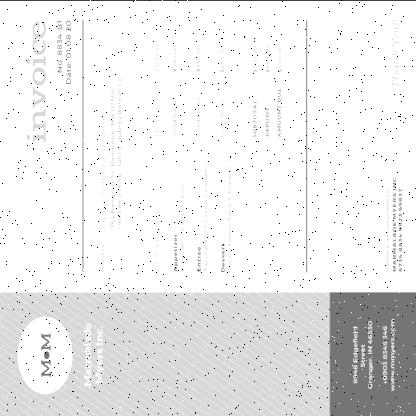Paragraph: (98, 74, 124, 274), (250, 39, 284, 140), (384, 172, 406, 274), (82, 320, 106, 388), (388, 15, 402, 90)
Table: (152, 40, 236, 276)
